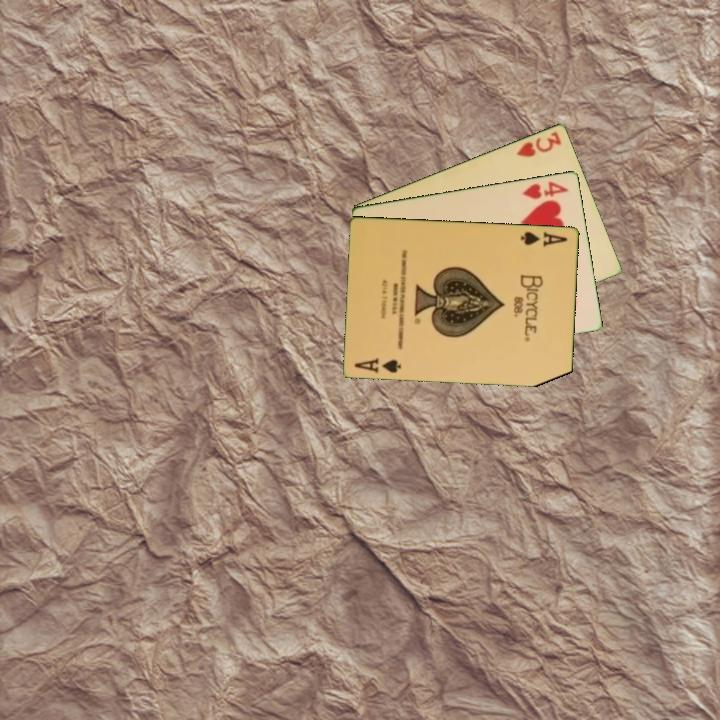3h: (513, 127, 565, 160)
4h: (519, 178, 571, 202)
As: (518, 228, 571, 249), (351, 354, 404, 375)
